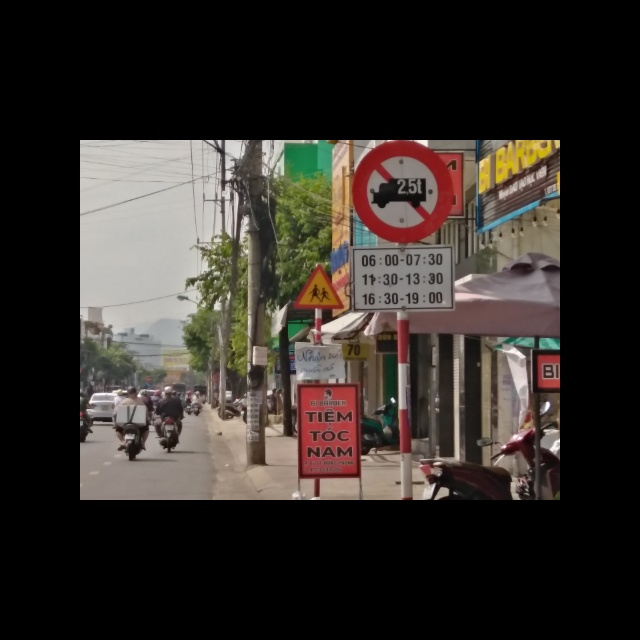Cấm xe tải: (351, 144, 458, 247)
Trẻ em ngang qua: (293, 265, 345, 311)
